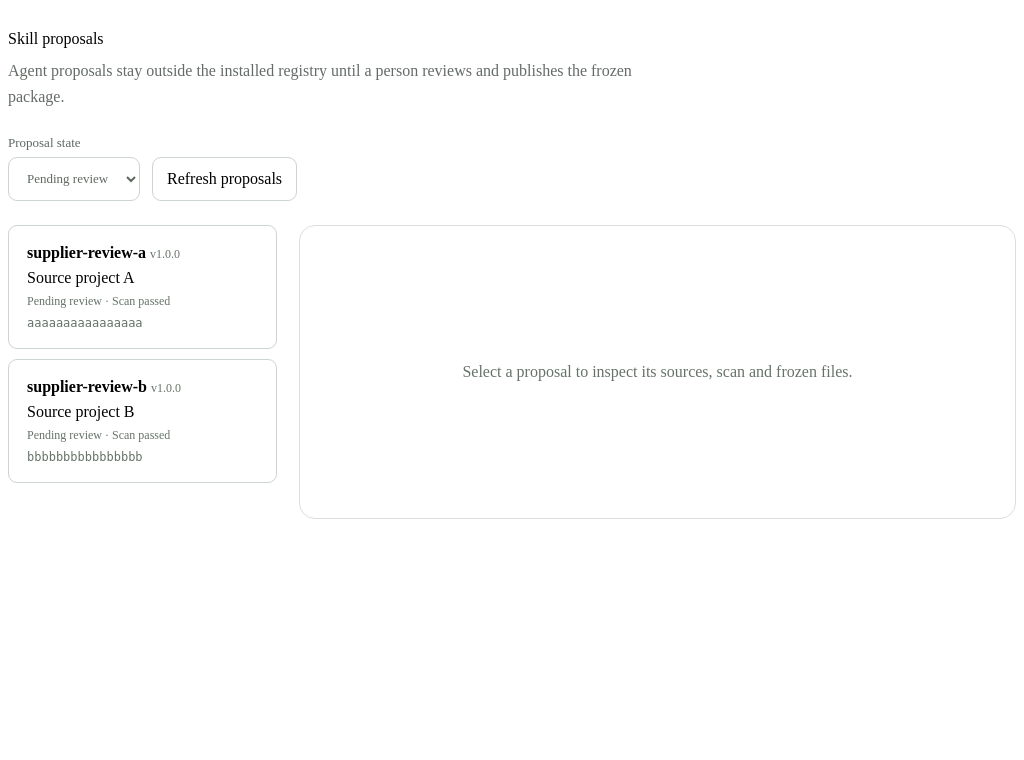
Test: SkillProposalsPanel › blocks approval for missing_scan instead of treating a partial review as complete
Click the button that starts with "supplier-review-a" at (87, 252), box [8, 225, 277, 349]
(page scrolled)
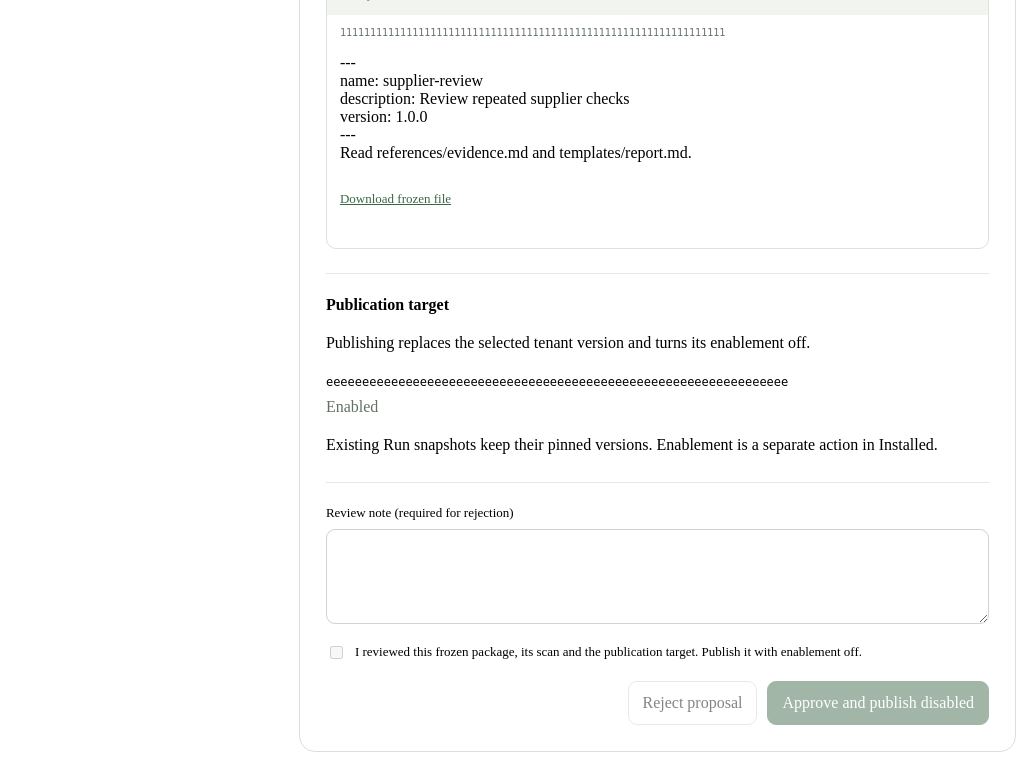
Check: the checkbox is disabled, box [330, 646, 343, 659]
Check: the button "Approve and publish disabled" is disabled, box [768, 681, 989, 725]
